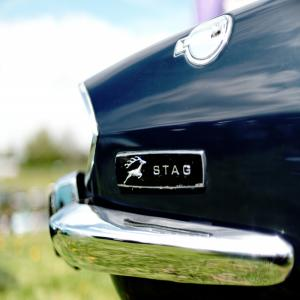Vehicle-registration-plate: (138, 154, 205, 199)
